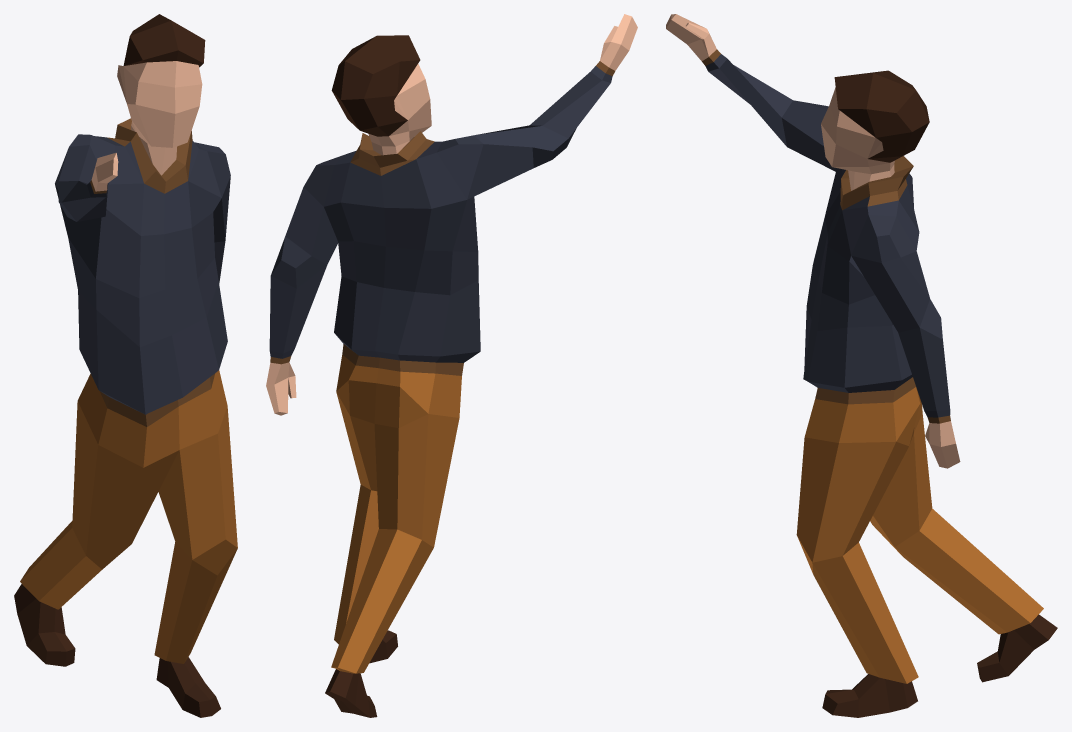
The model's file is AutumnBoy.003.glb.
The picture shows the model from 3 angles, left to right: view 1: azimuth 30°, elevation 25°; view 2: azimuth 150°, elevation 25°; view 3: azimuth 270°, elevation 25°; orthographic projection. The views are drawn at different scales.
Visible parts, largest first — view 1: AutumnBoy.003; view 2: AutumnBoy.003; view 3: AutumnBoy.003.
Boxes of the visible parts, x1,y1,x2,y2 form: AutumnBoy.003: (14, 14, 237, 717); AutumnBoy.003: (266, 14, 637, 717); AutumnBoy.003: (666, 14, 1057, 717).
Size of the model in its own units: 0.5854 by 1.51 by 0.8487.
Materials: 1 (1 with a texture image).
